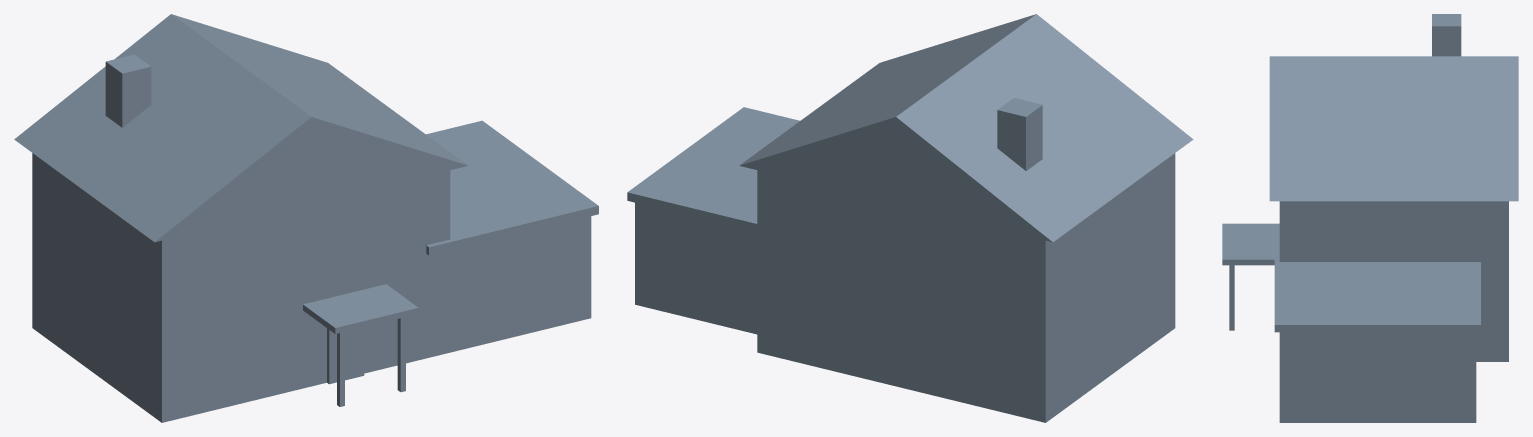
3 views of the same model, side by side, from view 1: azimuth 30°, elevation 25°; view 2: azimuth 150°, elevation 25°; view 3: azimuth 270°, elevation 25° (orthographic). The views are drawn at different scales.
Parts seen in each view (by area): view 1: main-volume, gable-roof, wing, wing-roof, porch-roof, chimney, door, porch-post-b, porch-post-a; view 2: main-volume, gable-roof, wing, wing-roof, chimney; view 3: gable-roof, wing, main-volume, wing-roof, porch-roof, chimney, porch-post-b.
Part boxes in pixels (x1,y1,x2,y2): main-volume: (32,153,450,422); gable-roof: (14,14,468,242); wing: (431,216,591,357); wing-roof: (426,120,598,255); porch-roof: (303,284,418,333); chimney: (105,54,151,127); door: (327,327,364,384); porch-post-b: (397,317,405,392); porch-post-a: (337,332,344,406); main-volume: (757,153,1175,422); gable-roof: (739,14,1193,242); wing: (635,202,757,334); wing-roof: (627,107,799,232); chimney: (997,98,1042,170); gable-roof: (1269,56,1518,201); wing: (1279,332,1476,422); main-volume: (1279,201,1508,361); wing-roof: (1274,251,1480,332); porch-roof: (1222,223,1279,265); chimney: (1432,14,1461,56); porch-post-b: (1229,265,1234,330).
Size of the model in its own units: 13.95 by 8.2 by 9.05.
